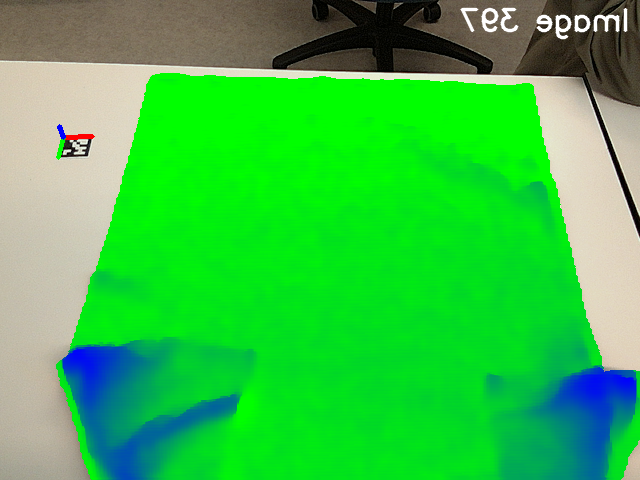V: (472, 350, 543, 426), (208, 327, 274, 385)
